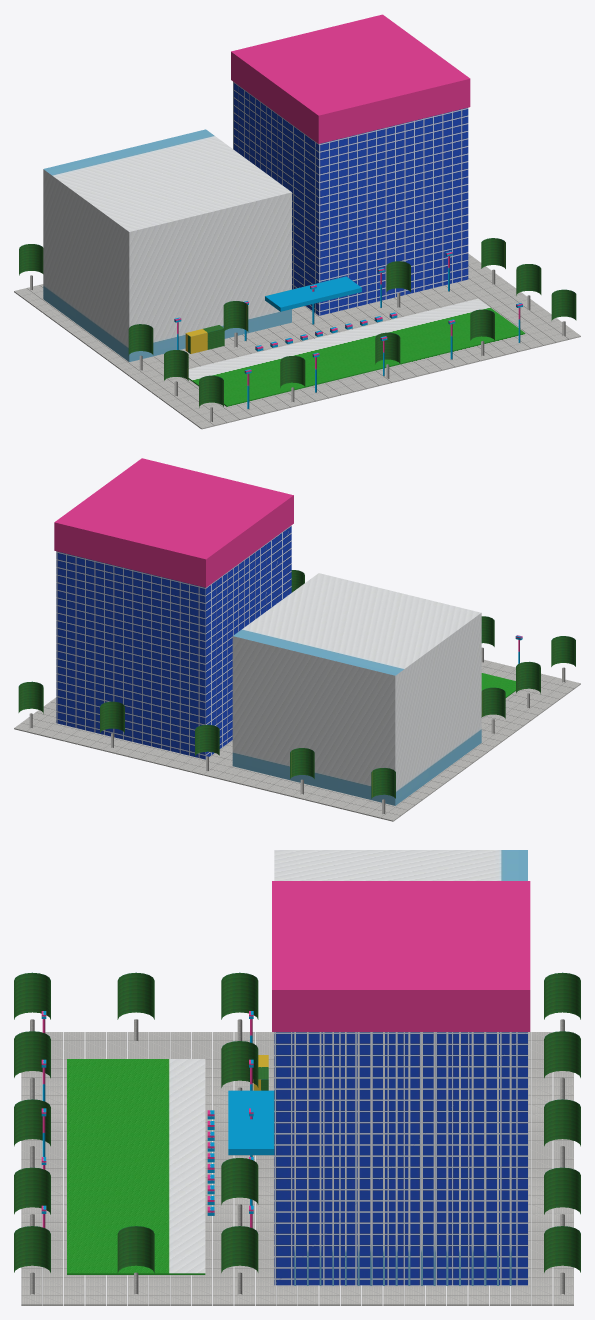
3 renders of one model, top to bottom at view 1: azimuth 30°, elevation 25°; view 2: azimuth 150°, elevation 25°; view 3: azimuth 270°, elevation 25°, orthographic. The views are drawn at different scales.
Visible parts, largest first — view 1: 28185_B39_Merck_Songdo_Bioprocessing_Center; view 2: 28185_B39_Merck_Songdo_Bioprocessing_Center; view 3: 28185_B39_Merck_Songdo_Bioprocessing_Center.
Part boxes in pixels (x1,y1,x2,y2): 28185_B39_Merck_Songdo_Bioprocessing_Center: [14, 14, 580, 429]; 28185_B39_Merck_Songdo_Bioprocessing_Center: [14, 458, 580, 821]; 28185_B39_Merck_Songdo_Bioprocessing_Center: [14, 850, 580, 1305].
Bounding box in the file's own units: 55.95 × 28.5 × 49.2.
Materials: 1 (1 with a texture image).
